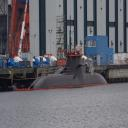submarine: (28, 54, 109, 90)
